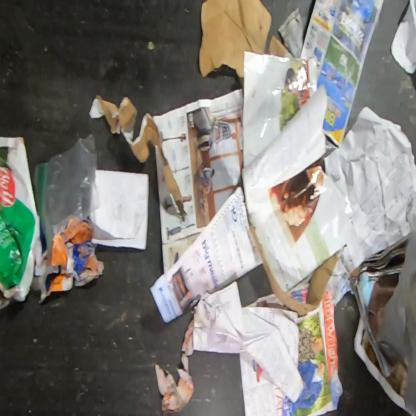cardboard: (88, 94, 188, 223), (249, 223, 340, 318), (198, 0, 295, 88)
soft_plastic: (374, 187, 415, 415), (34, 132, 101, 252), (0, 135, 43, 303)
